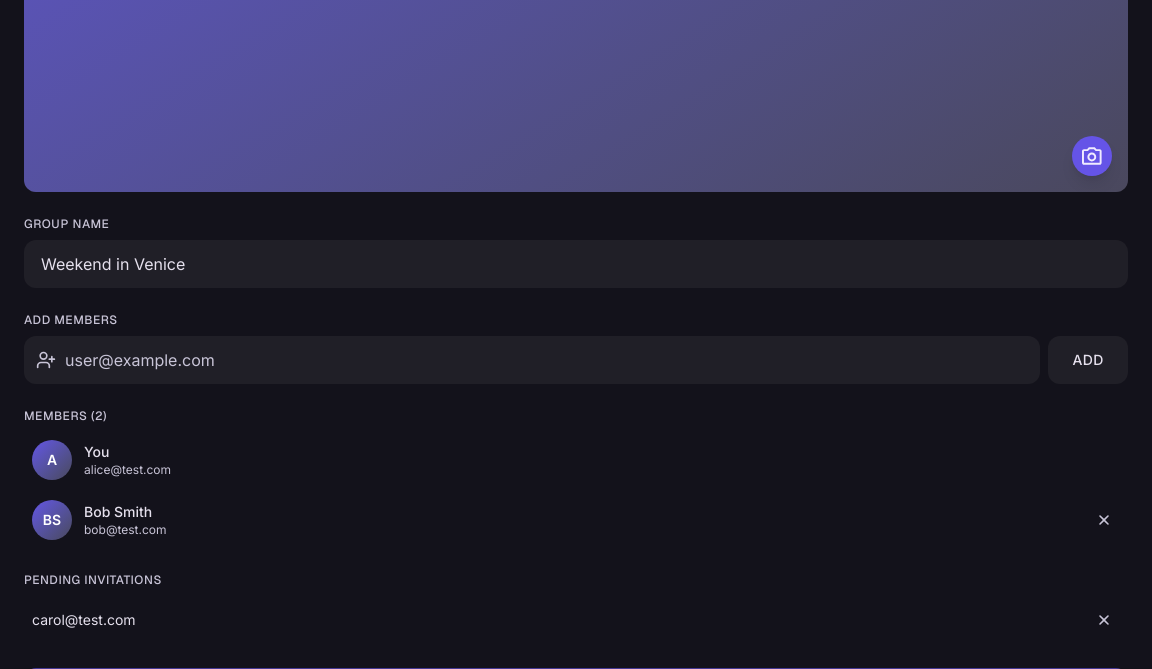
it: GroupSettingsPanel › shows generic error message when addMember fails without a response message
(page scrolled)
Type "carol@test.com" into the field with placeholder "user@example.com" at [532, 360], box [24,336,1040,384]
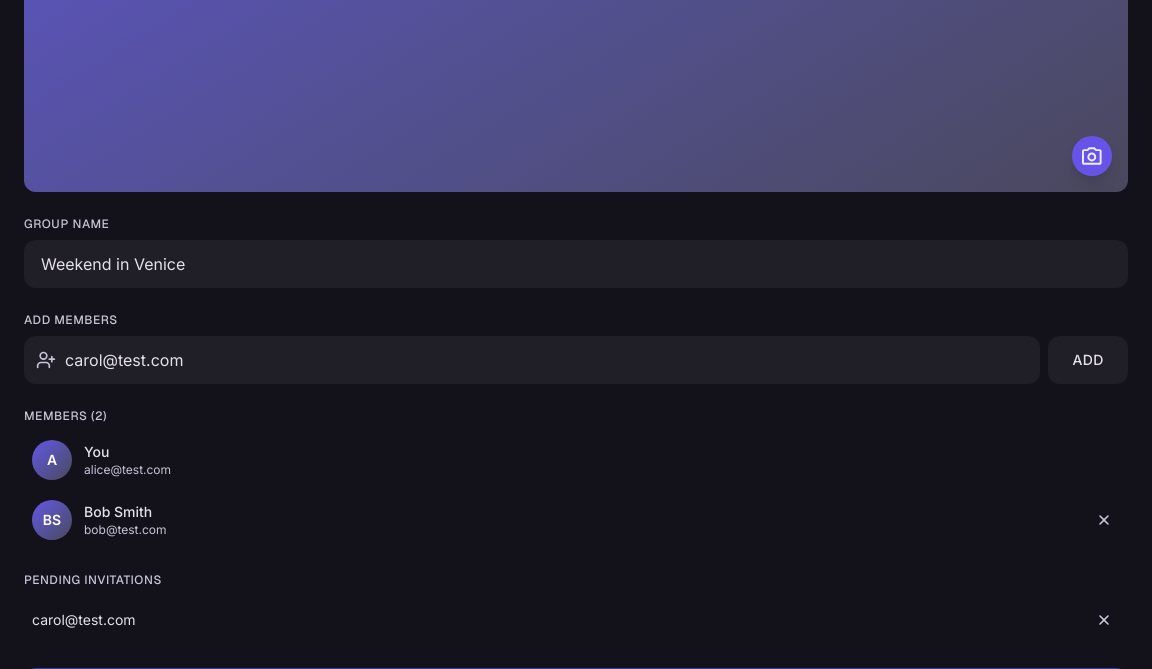
Submit the form, box [24,336,1128,384]
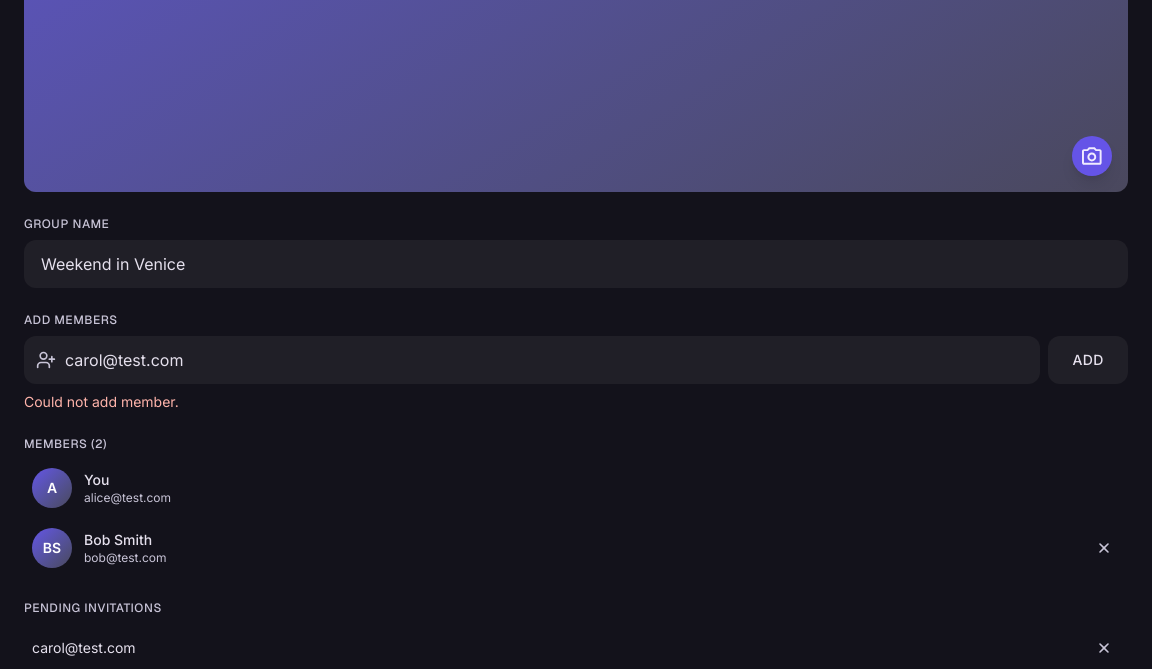
Result: the text "Could not add member." is shown at [24,393,179,410]
